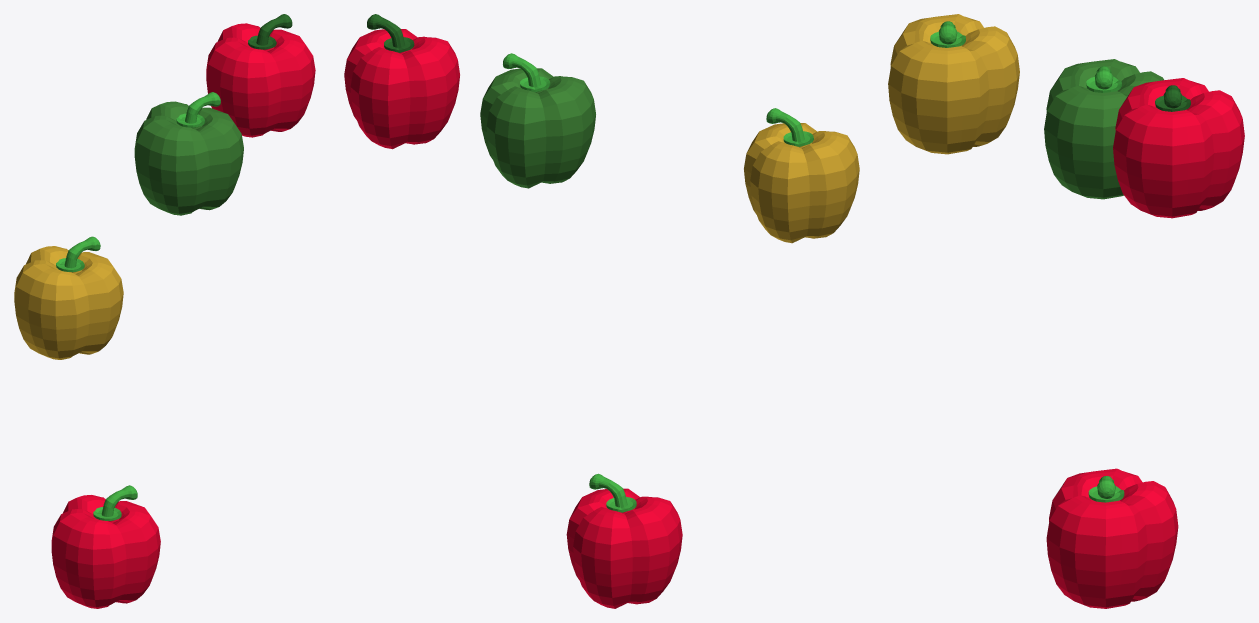
File: Bell Pepper_with_animation.glb
3 views of the same model, side by side, from view 1: azimuth 30°, elevation 25°; view 2: azimuth 150°, elevation 25°; view 3: azimuth 270°, elevation 25° (orthographic). The views are drawn at different scales.
Parts seen in each view (by area): view 1: Pepper.004, Pepper.002, Pepper.003, Pepper.001; view 2: Pepper.002, Pepper.001, Pepper.004, Pepper.003; view 3: Pepper.003, Pepper.002, Pepper.001, Pepper.004.
Boxes of the visible parts, left/top/right/bottom form: Pepper.004: left=134, top=92, right=243, bottom=215; Pepper.002: left=51, top=485, right=160, bottom=608; Pepper.003: left=14, top=236, right=123, bottom=359; Pepper.001: left=206, top=14, right=315, bottom=137; Pepper.002: left=566, top=473, right=682, bottom=608; Pepper.001: left=344, top=14, right=459, bottom=149; Pepper.004: left=480, top=53, right=595, bottom=188; Pepper.003: left=744, top=108, right=859, bottom=243; Pepper.003: left=888, top=14, right=1019, bottom=154; Pepper.002: left=1046, top=468, right=1178, bottom=608; Pepper.001: left=1113, top=78, right=1244, bottom=218; Pepper.004: left=1044, top=59, right=1163, bottom=199.
Size of the model in its own units: 8.55 by 11.06 by 5.67.
